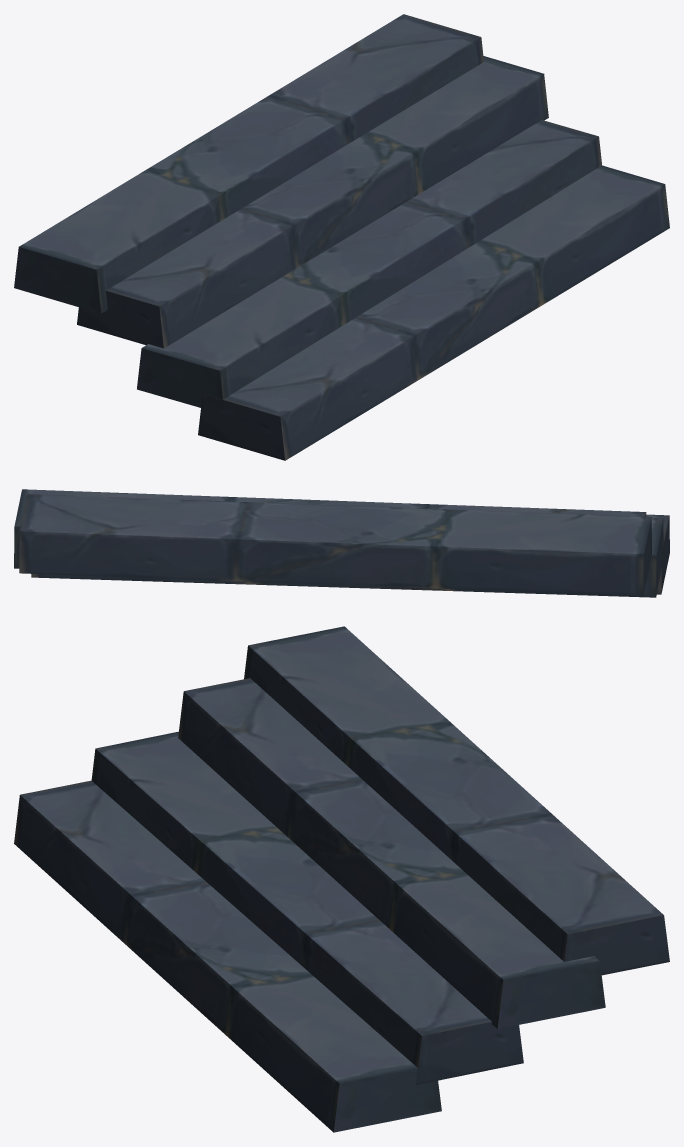
File: Area_15_1.fbx
3 views of the same model, one above another, from view 1: azimuth 30°, elevation 25°; view 2: azimuth 150°, elevation 25°; view 3: azimuth 270°, elevation 25° (orthographic). The views are drawn at different scales.
Visible parts, largest first — view 1: Area_15_1; view 2: Area_15_1; view 3: Area_15_1.
Boxes of the visible parts, <box> form: Area_15_1: <box>14,14,669,460</box>; Area_15_1: <box>14,489,669,597</box>; Area_15_1: <box>14,626,669,1132</box>.
Bounding box in the file's own units: 929 × 185 × 725.
